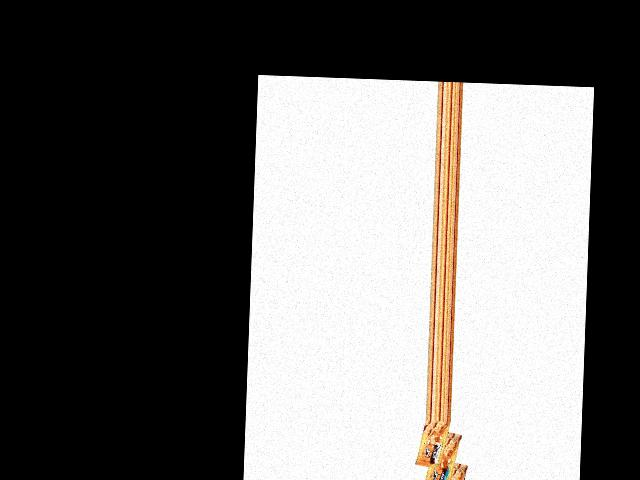chocolate: (431, 457, 465, 480)
